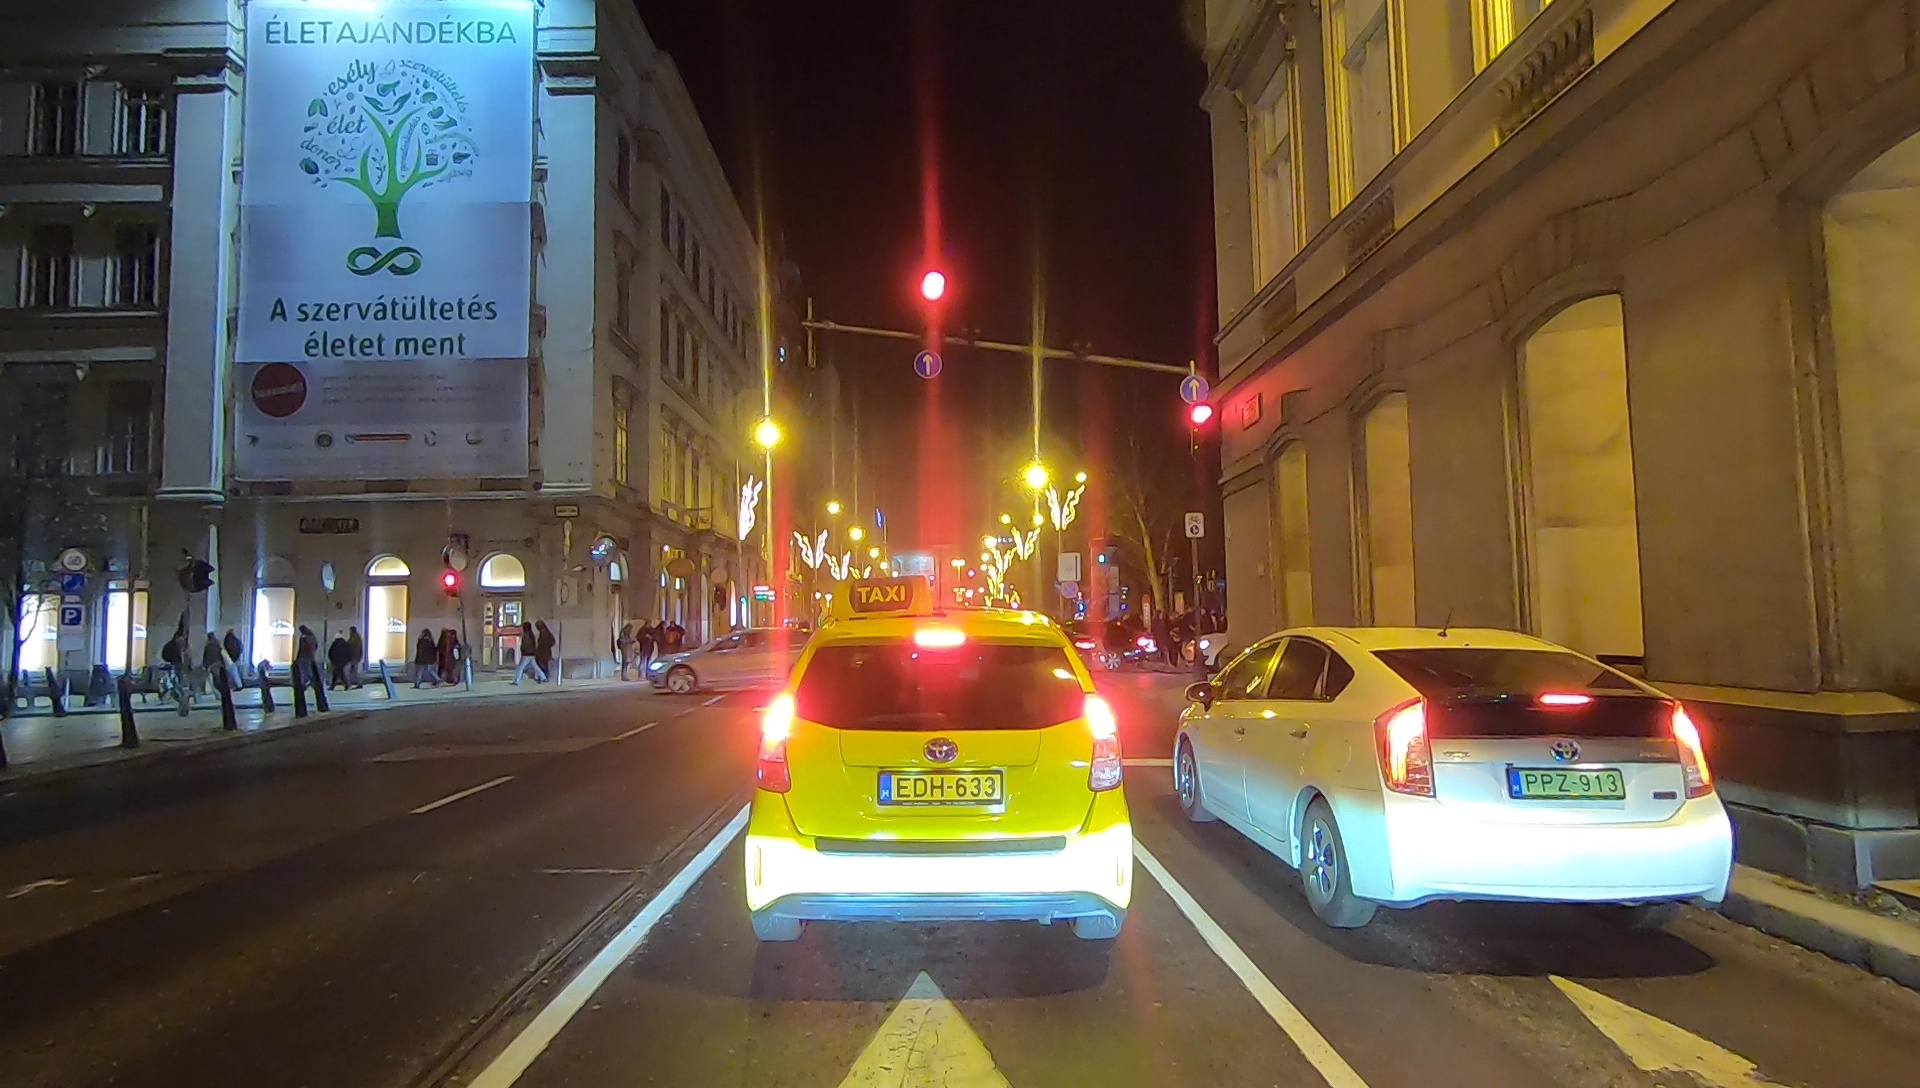person: (323, 632, 351, 693), (165, 632, 184, 697), (515, 623, 538, 679), (538, 621, 560, 678), (612, 617, 632, 678), (651, 621, 671, 680), (204, 637, 223, 700), (436, 632, 458, 684), (295, 630, 315, 686), (349, 628, 367, 689), (414, 634, 432, 684), (636, 624, 652, 682), (671, 619, 686, 674)
